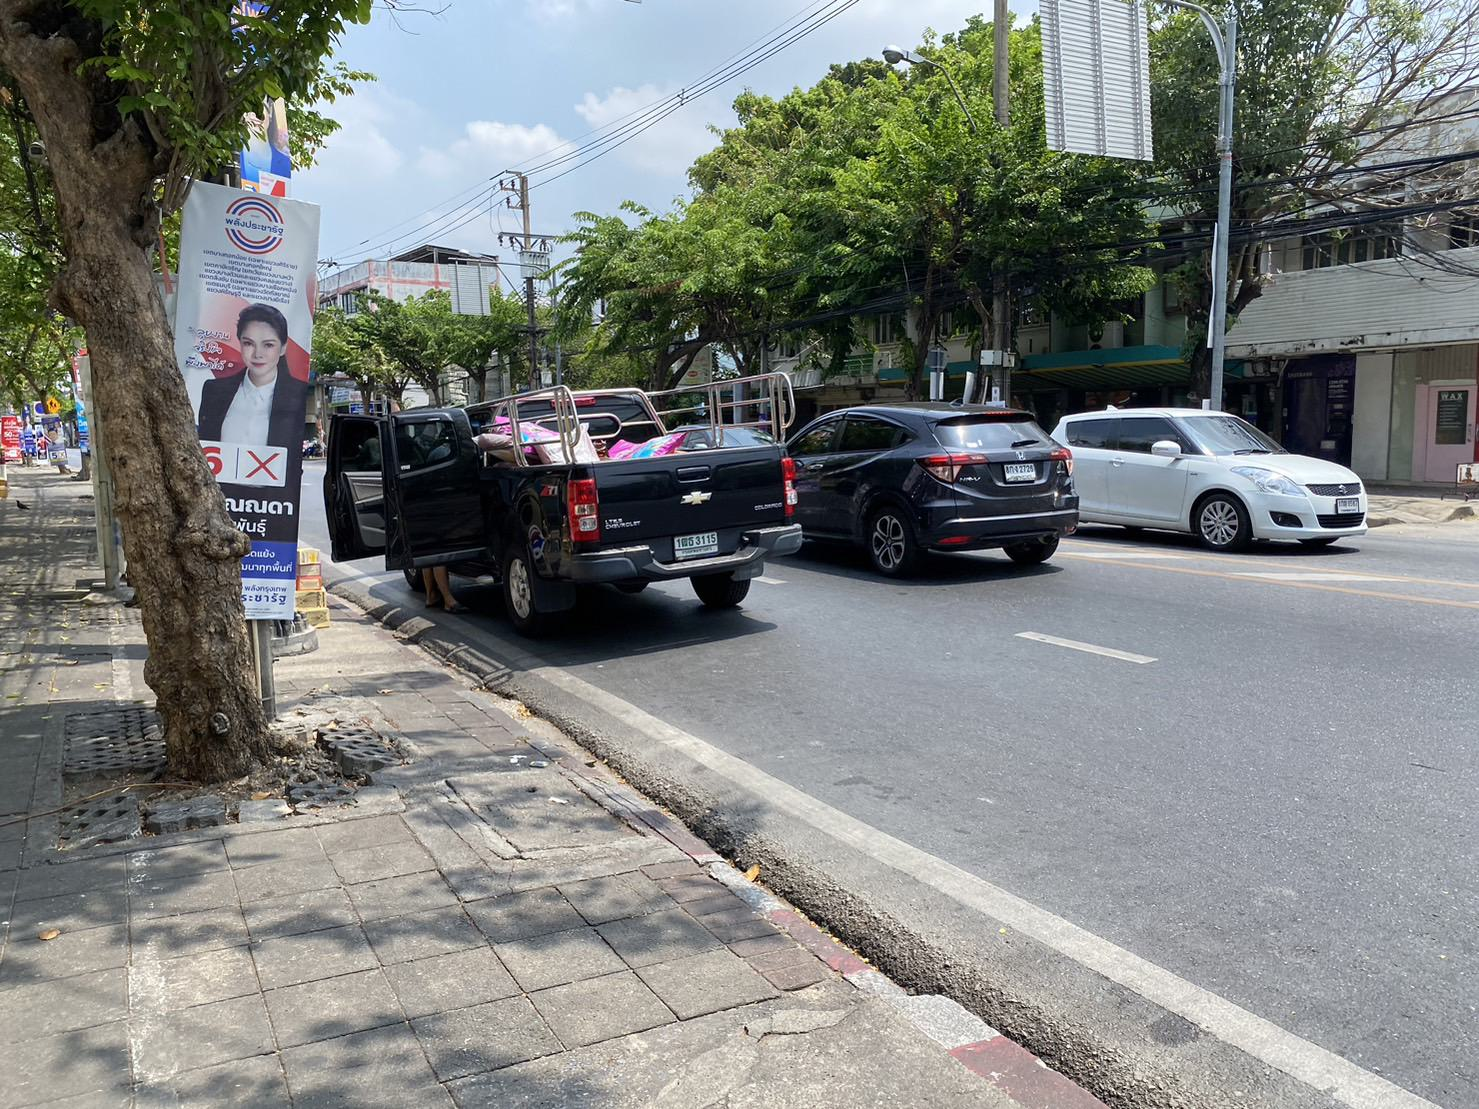Banner: (174, 174, 314, 640)
